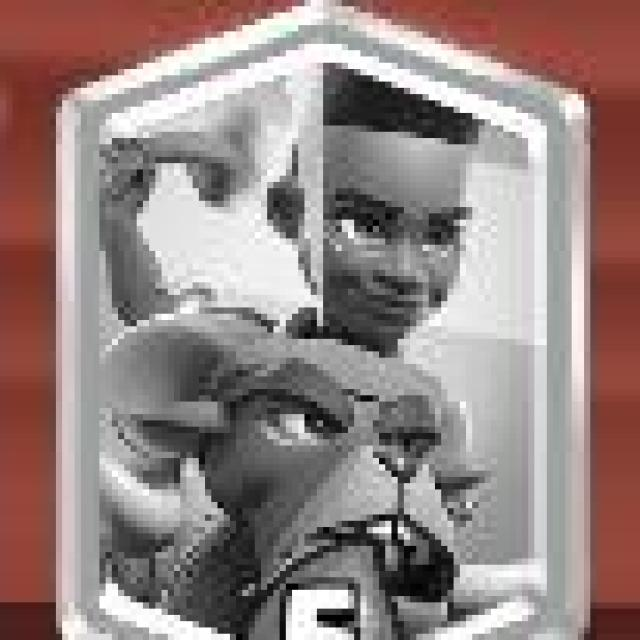Ram_Rider: (65, 13, 590, 640)
